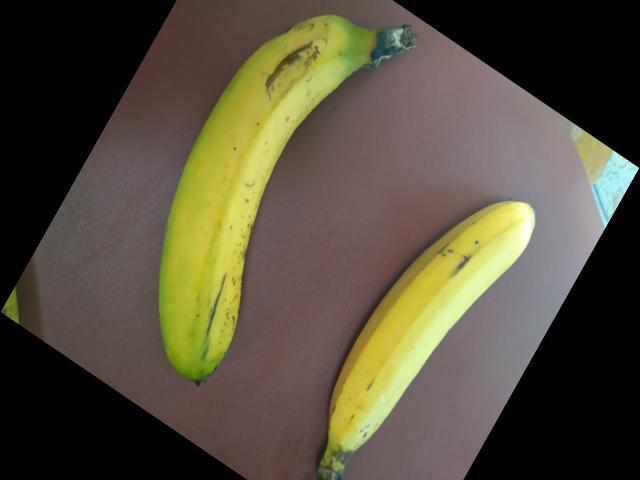freshripe: (303, 205, 553, 479)
ripe: (145, 34, 379, 379)
